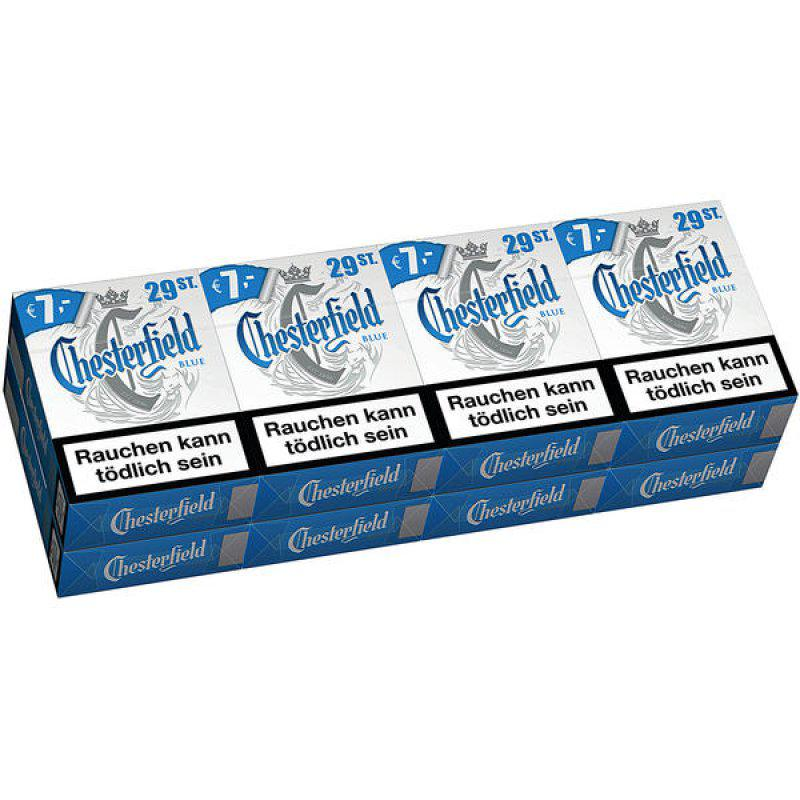chesterfield_blue: (41, 280, 214, 482), (234, 256, 405, 460), (414, 229, 581, 434), (588, 211, 757, 405)
